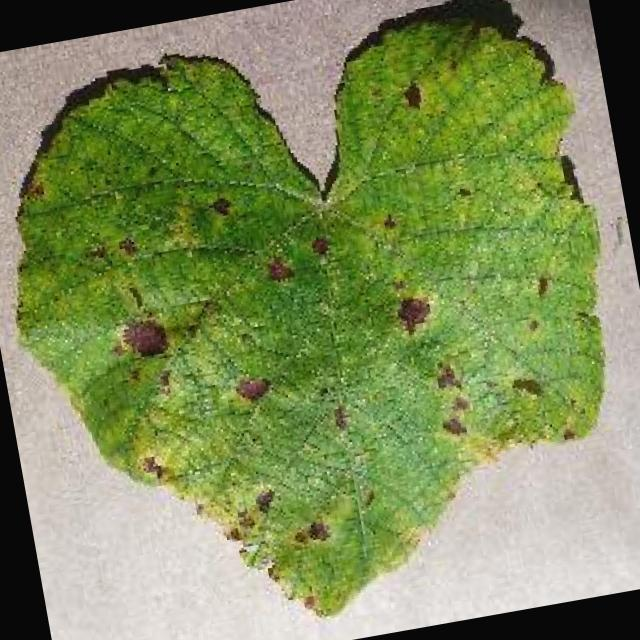leaf_spot: (16, 22, 602, 615)
